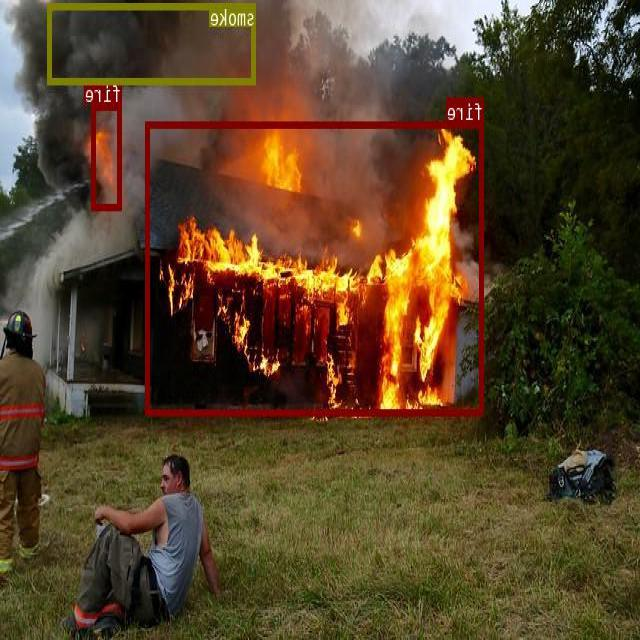fire: (146, 120, 484, 415), (93, 103, 123, 209)
smoke: (49, 2, 256, 83)
